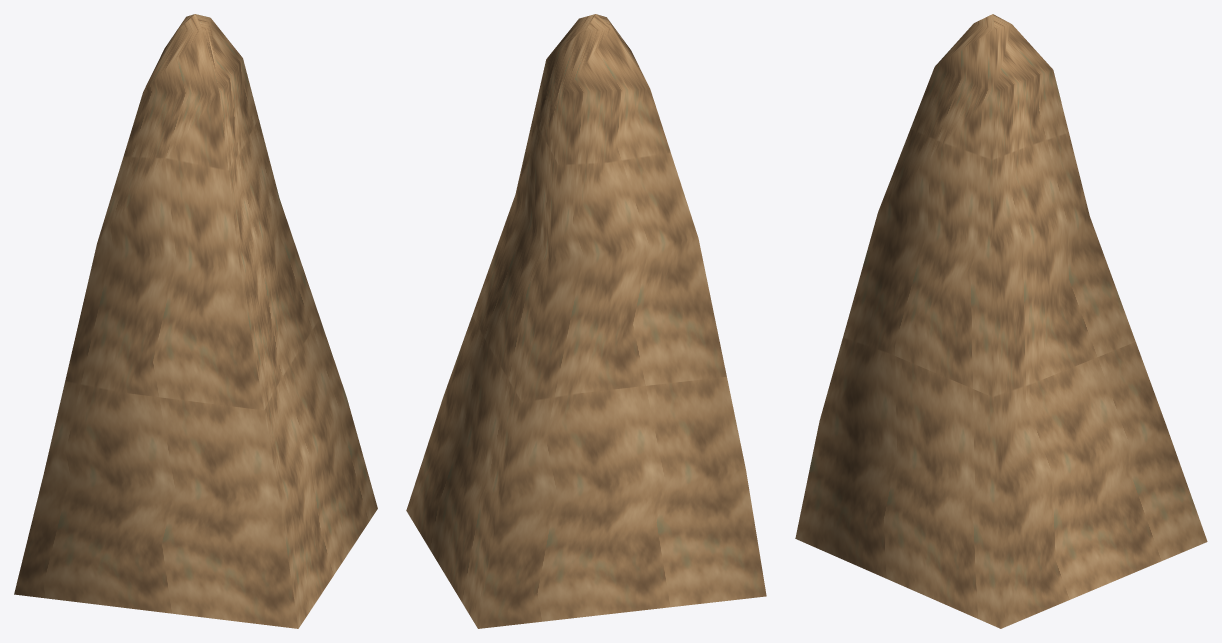
Rendered from Termite_Mound_1_LOD2.gltf.
The picture shows the model from 3 angles, left to right: view 1: azimuth 30°, elevation 25°; view 2: azimuth 150°, elevation 25°; view 3: azimuth 270°, elevation 25°; orthographic projection. The views are drawn at different scales.
Visible parts, largest first — view 1: Termite_Mound_1_LOD2; view 2: Termite_Mound_1_LOD2; view 3: Termite_Mound_1_LOD2.
Boxes of the visible parts, x1,y1,x2,y2 form: Termite_Mound_1_LOD2: (14,14,377,628); Termite_Mound_1_LOD2: (406,14,766,628); Termite_Mound_1_LOD2: (795,14,1207,628).
Size of the model in its own units: 1.8 by 2.57 by 1.83.
1 material, 1 textured.
